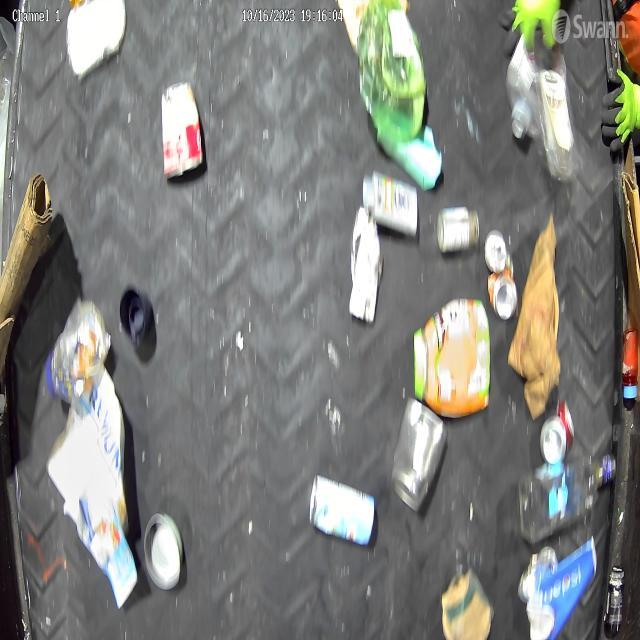can: (308, 472, 378, 548), (160, 78, 203, 182), (142, 512, 184, 594), (538, 396, 574, 464), (486, 258, 520, 319), (483, 230, 515, 267)
non_white_jug: (412, 296, 493, 420)
plastic_bottle: (518, 451, 618, 544), (532, 42, 580, 182)
